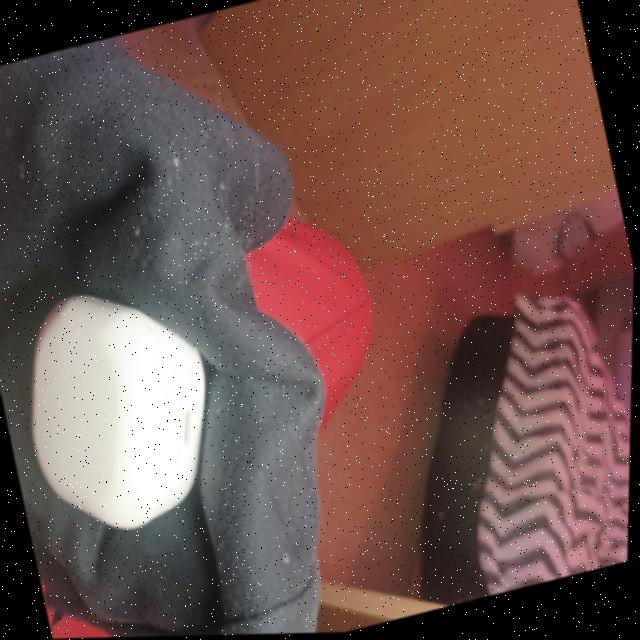headphones: (33, 296, 206, 529)
